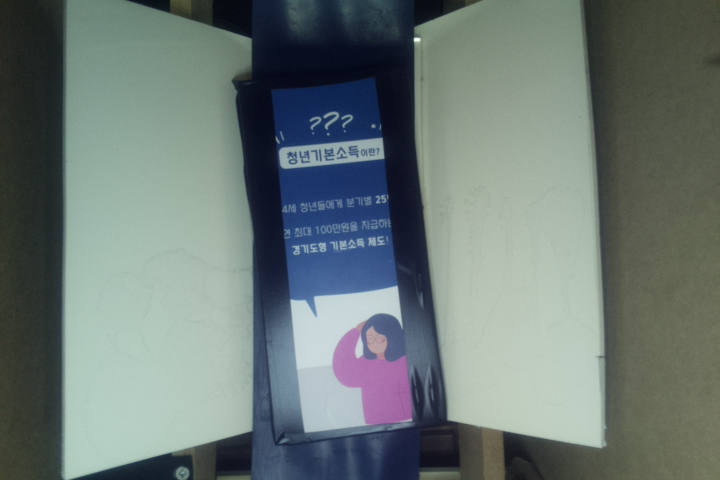book: (236, 70, 449, 444)
